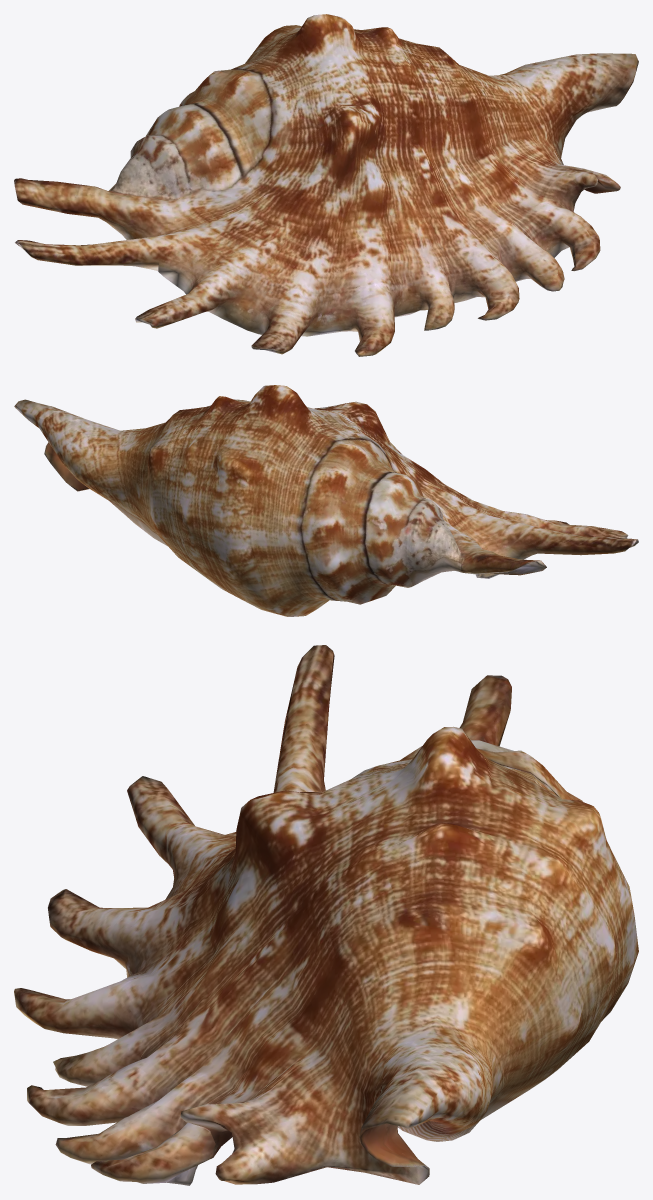
Rendered from lambis_shell.glb.
3 renders of one model, top to bottom at view 1: azimuth 30°, elevation 25°; view 2: azimuth 150°, elevation 25°; view 3: azimuth 270°, elevation 25°, orthographic. The views are drawn at different scales.
Parts seen in each view (by area): view 1: lambis_shell; view 2: lambis_shell; view 3: lambis_shell.
Boxes of the visible parts, <box> form: lambis_shell: <box>14,14,638,356</box>; lambis_shell: <box>14,385,638,616</box>; lambis_shell: <box>14,645,638,1185</box>.
Bounding box in the file's own units: 0.1395 × 0.0465 × 0.0744.
1 material, 1 textured.
